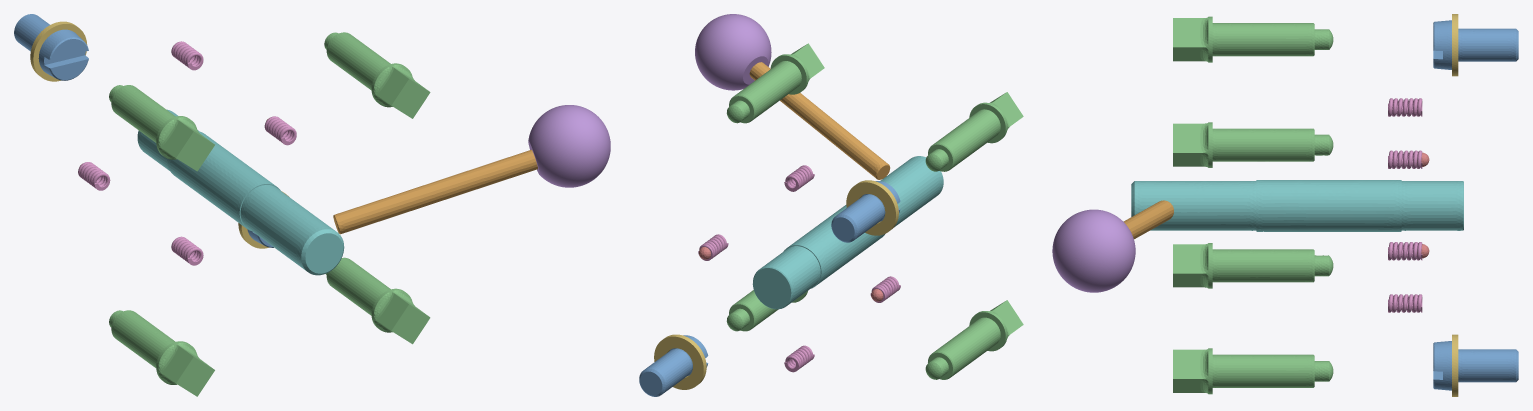
Rendered from toolpost_rebuilt_parts.glb.
3 renders of one model, left to right at view 1: azimuth 30°, elevation 25°; view 2: azimuth 150°, elevation 25°; view 3: azimuth 270°, elevation 25°, orthographic. The views are drawn at different scales.
Parts seen in each view (by area): view 1: recon_shaft_central_14, recon_knob_16, recon_shaft_side_15, recon_machine_screw_2, recon_machine_screw_3, recon_machine_screw_1, recon_machine_screw_0, recon_bs4183_screw_6, recon_din_washer_9, recon_compress_spring_10, recon_compress_spring_12, recon_compress_spring_11 (+1 smaller); view 2: recon_shaft_central_14, recon_knob_16, recon_machine_screw_2, recon_machine_screw_3, recon_machine_screw_1, recon_shaft_side_15, recon_bs4183_screw_6, recon_bs4183_screw_7, recon_din_washer_8, recon_din_washer_9, recon_machine_screw_0, recon_compress_spring_12 (+3 smaller); view 3: recon_shaft_central_14, recon_machine_screw_2, recon_machine_screw_1, recon_machine_screw_3, recon_machine_screw_0, recon_knob_16, recon_bs4183_screw_6, recon_bs4183_screw_7, recon_shaft_side_15, recon_compress_spring_12, recon_compress_spring_10, recon_compress_spring_11 (+3 smaller).
Boxes of the visible parts, x1=… form: recon_shaft_central_14: x1=137, y1=109, x2=344, y2=275; recon_knob_16: x1=528, y1=105, x2=610, y2=187; recon_shaft_side_15: x1=333, y1=149, x2=537, y2=234; recon_machine_screw_2: x1=324, y1=32, x2=430, y2=118; recon_machine_screw_3: x1=109, y1=85, x2=214, y2=171; recon_machine_screw_1: x1=109, y1=310, x2=214, y2=396; recon_machine_screw_0: x1=326, y1=257, x2=430, y2=344; recon_bs4183_screw_6: x1=14, y1=14, x2=88, y2=80; recon_din_washer_9: x1=30, y1=21, x2=87, y2=81; recon_compress_spring_10: x1=171, y1=41, x2=203, y2=70; recon_compress_spring_12: x1=171, y1=236, x2=203, y2=265; recon_compress_spring_11: x1=264, y1=116, x2=296, y2=145; recon_shaft_central_14: x1=752, y1=156, x2=943, y2=309; recon_knob_16: x1=695, y1=14, x2=771, y2=90; recon_machine_screw_2: x1=726, y1=43, x2=824, y2=123; recon_machine_screw_3: x1=925, y1=92, x2=1023, y2=171; recon_machine_screw_1: x1=925, y1=300, x2=1023, y2=379; recon_shaft_side_15: x1=749, y1=62, x2=890, y2=179; recon_bs4183_screw_6: x1=831, y1=181, x2=900, y2=242; recon_bs4183_screw_7: x1=639, y1=335, x2=708, y2=396; recon_din_washer_8: x1=654, y1=334, x2=706, y2=389; recon_din_washer_9: x1=846, y1=180, x2=898, y2=235; recon_machine_screw_0: x1=726, y1=290, x2=807, y2=331; recon_compress_spring_12: x1=784, y1=345, x2=814, y2=372; recon_shaft_central_14: x1=1131, y1=180, x2=1463, y2=231; recon_machine_screw_2: x1=1173, y1=122, x2=1333, y2=167; recon_machine_screw_1: x1=1173, y1=243, x2=1333, y2=288; recon_machine_screw_3: x1=1173, y1=16, x2=1333, y2=62; recon_machine_screw_0: x1=1173, y1=348, x2=1333, y2=394; recon_knob_16: x1=1052, y1=209, x2=1135, y2=292; recon_bs4183_screw_6: x1=1433, y1=20, x2=1518, y2=69; recon_bs4183_screw_7: x1=1433, y1=341, x2=1518, y2=390; recon_shaft_side_15: x1=1123, y1=200, x2=1173, y2=239; recon_compress_spring_12: x1=1388, y1=294, x2=1422, y2=312; recon_compress_spring_10: x1=1388, y1=98, x2=1422, y2=116; recon_compress_spring_11: x1=1388, y1=242, x2=1422, y2=260.
Bounding box in the file's own units: 219 × 146 × 224.
